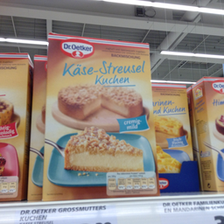cake: (46, 29, 157, 204)
